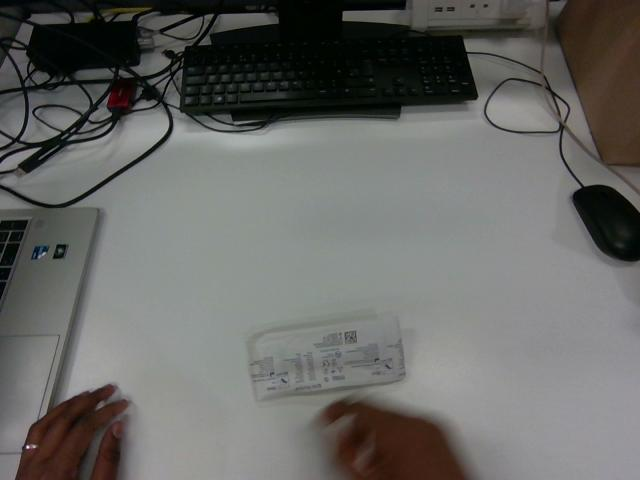syringe: (247, 313, 405, 399)
